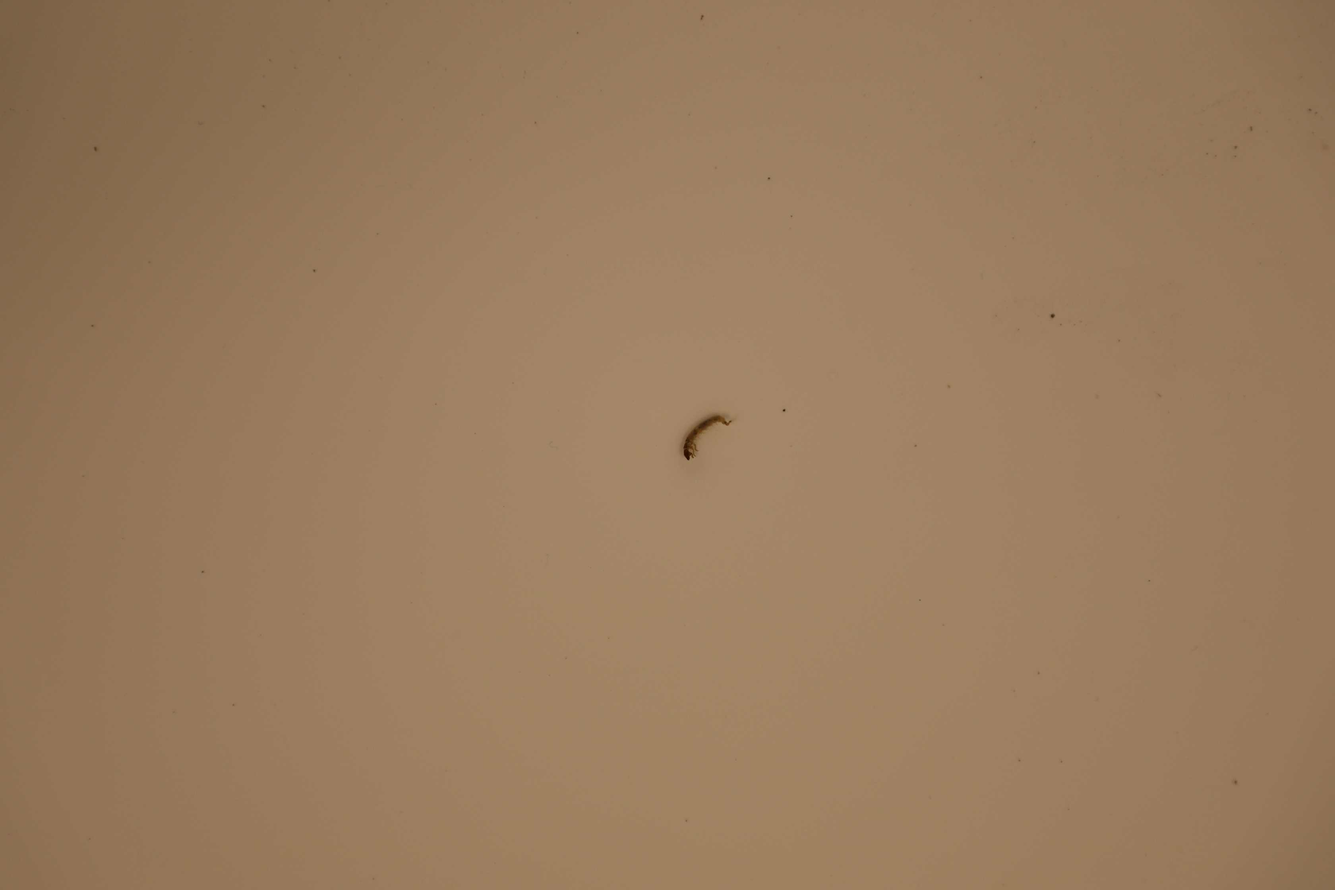Cadisfly: (675, 413, 736, 464)
